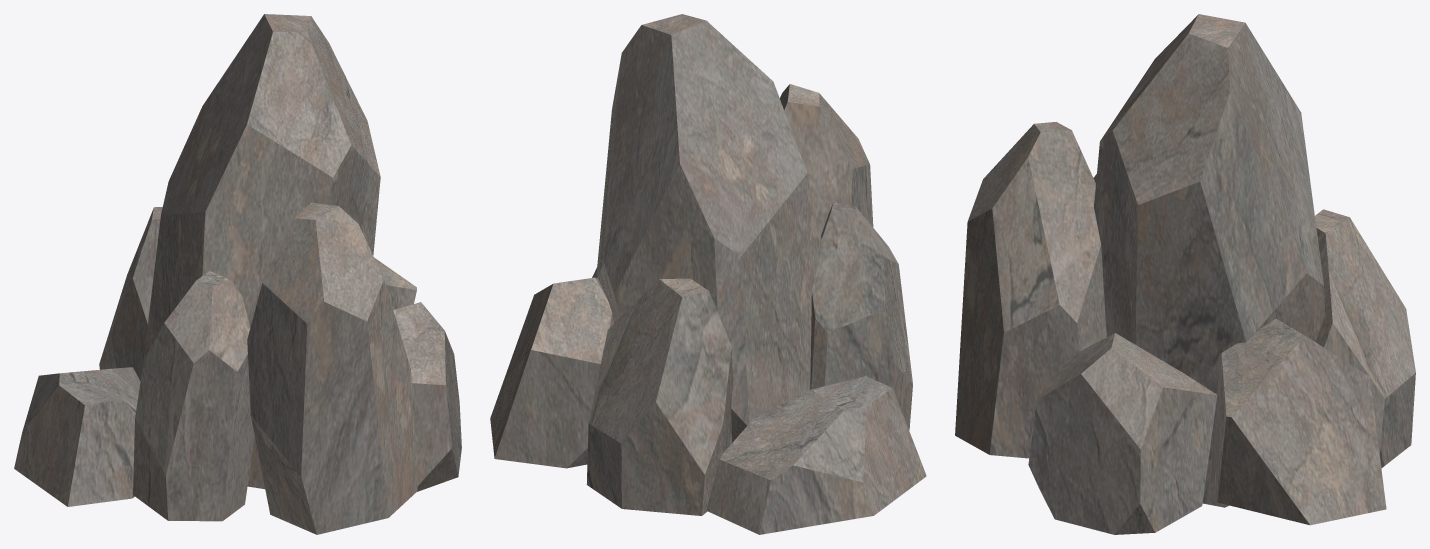
File: rockB.fbx
The picture shows the model from 3 angles, left to right: view 1: azimuth 30°, elevation 25°; view 2: azimuth 150°, elevation 25°; view 3: azimuth 270°, elevation 25°; orthographic projection. The views are drawn at different scales.
Visible parts, largest first — view 1: Cluster01; view 2: Cluster01; view 3: Cluster01.
Boxes of the visible parts, <box> form: Cluster01: <box>14,14,461,534</box>; Cluster01: <box>490,14,926,534</box>; Cluster01: <box>955,14,1415,534</box>.
Size of the model in its own units: 95.97 by 105 by 95.73.
Materials: 1 (1 with a texture image).
